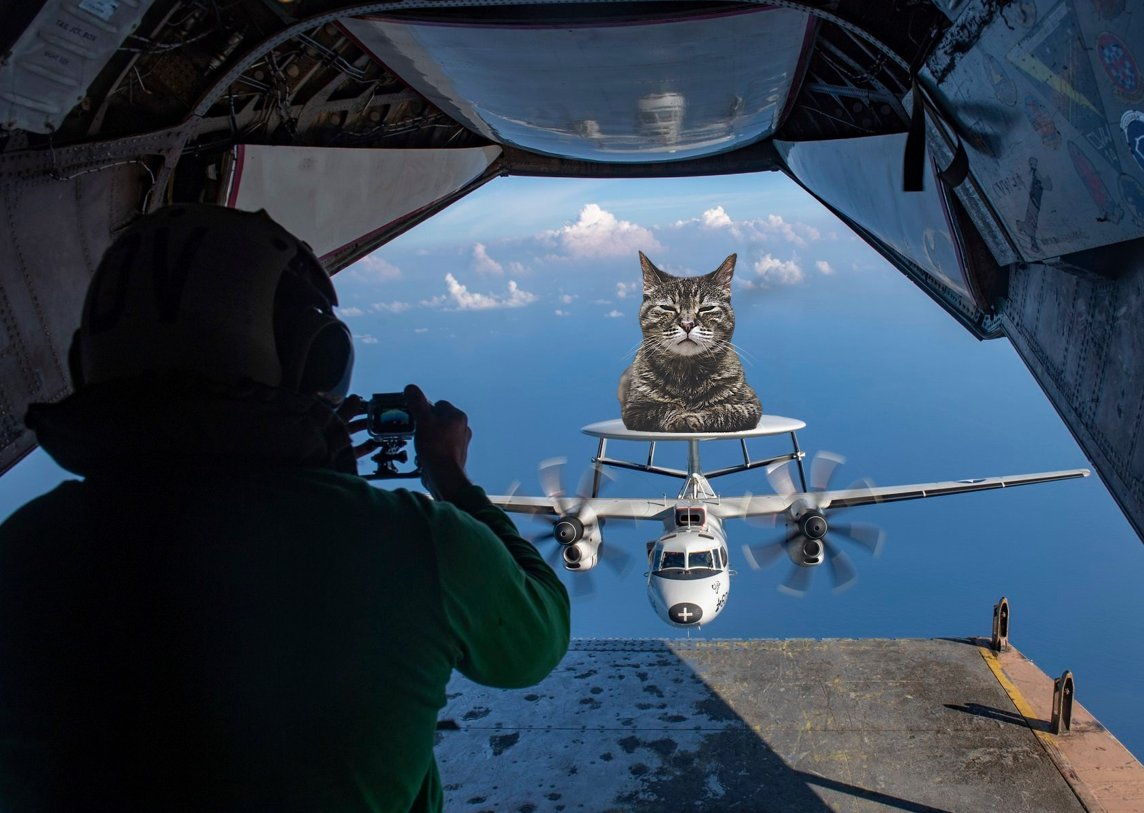E2: (423, 414, 1092, 638)
